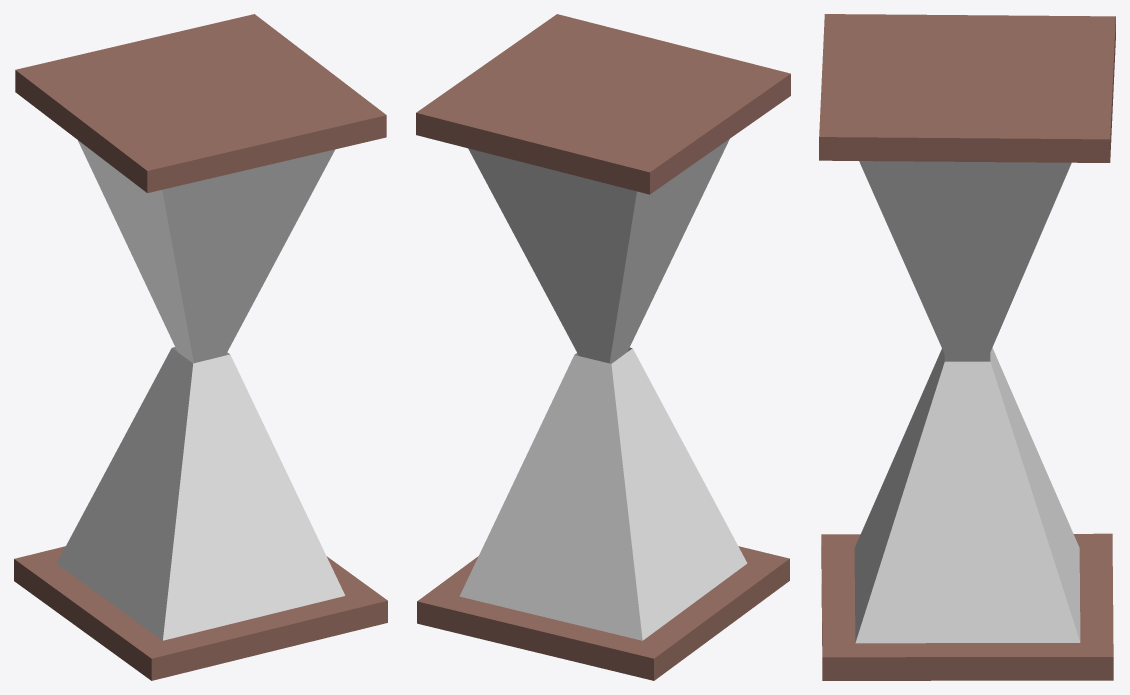
File: prop_096.glb
3 views of the same model, side by side, from view 1: azimuth 30°, elevation 25°; view 2: azimuth 150°, elevation 25°; view 3: azimuth 270°, elevation 25° (orthographic). The views are drawn at different scales.
Parts seen in each view (by area): view 1: prop_096; view 2: prop_096; view 3: prop_096.
Part boxes in pixels (left/top/right/bottom): prop_096: left=14, top=14, right=387, bottom=680; prop_096: left=416, top=14, right=790, bottom=680; prop_096: left=819, top=14, right=1115, bottom=680.
Size of the model in its own units: 0.1707 by 0.3444 by 0.1707.
Materials: 1 (1 with a texture image).
